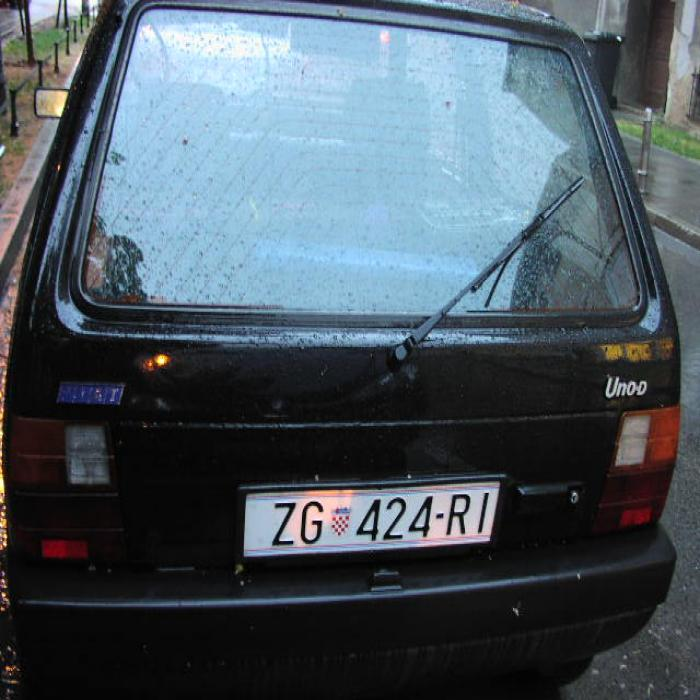number_plate: (245, 491, 491, 544)
